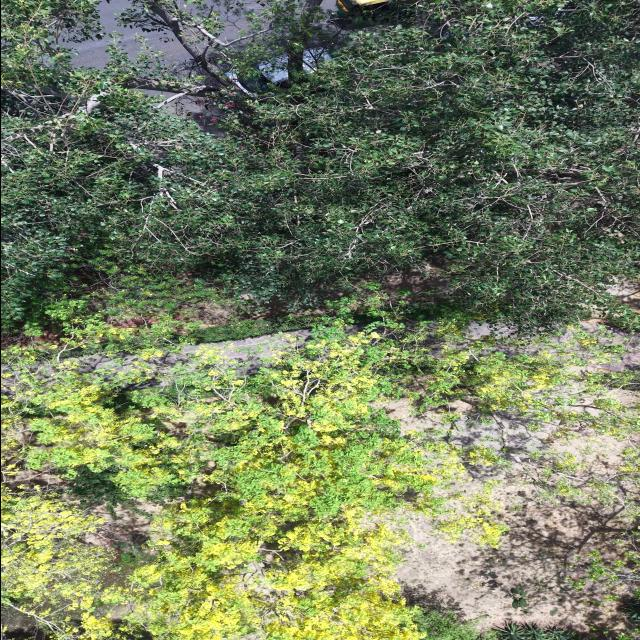DRY_AREA: (398, 398, 638, 631), (397, 431, 637, 633)
VEGETATION_TREE: (1, 0, 639, 639), (3, 0, 638, 329), (3, 324, 635, 639), (414, 607, 479, 639), (495, 622, 577, 639)
